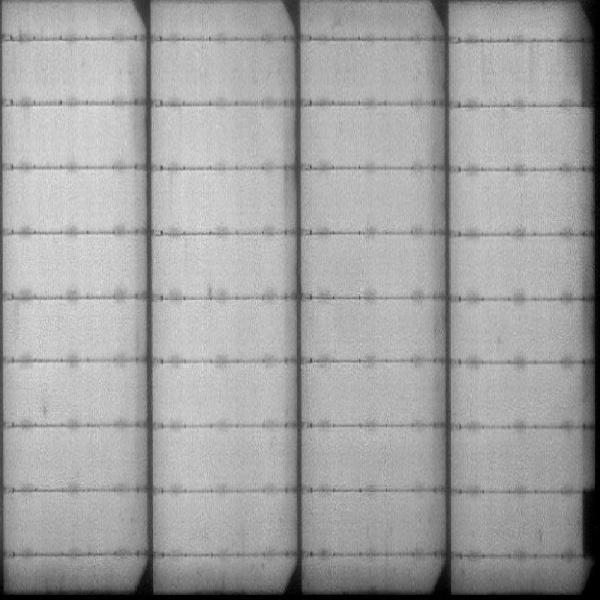black_border: (576, 477, 600, 563), (578, 32, 599, 114)
